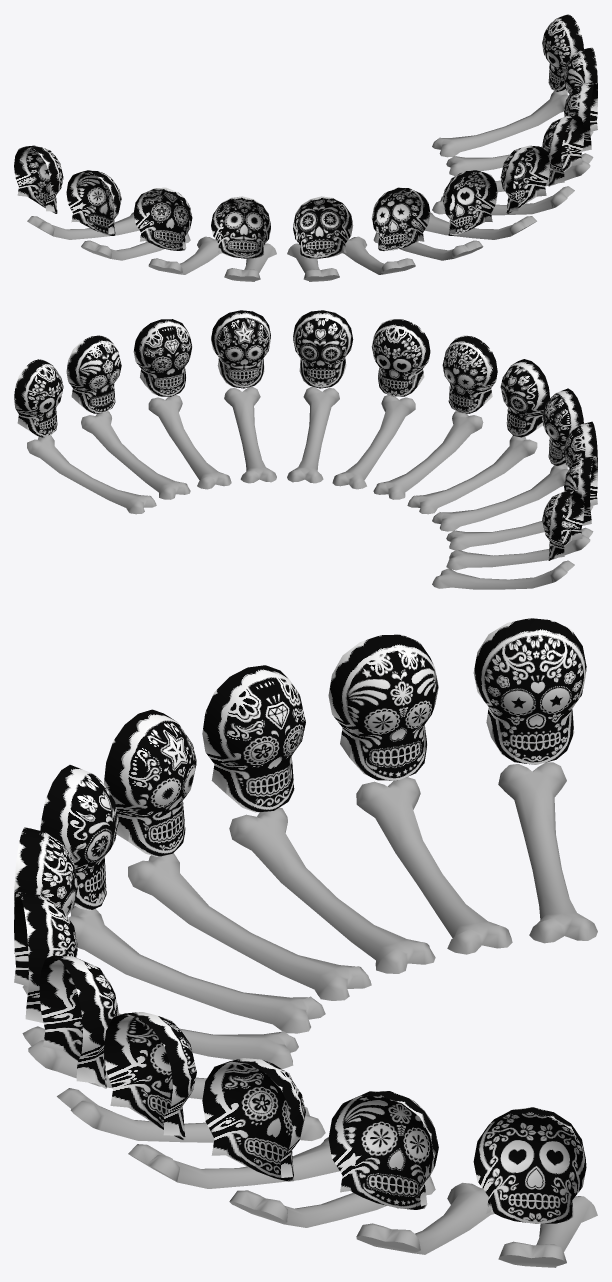
Rendered from xylophone.fbx.
The picture shows the model from 3 angles, top to bottom: view 1: azimuth 30°, elevation 25°; view 2: azimuth 150°, elevation 25°; view 3: azimuth 270°, elevation 25°; orthographic projection. The views are drawn at different scales.
Visible parts, largest first — view 1: head (×2), head5 (×2), head1 (×2), head4 (×2), head2 (×2), head3 (×2), bone4 (×2), bone5 (×2), bone (×2), bone1 (×2), bone3 (×2), bone2 (×2); view 2: head (×2), head4 (×2), head1 (×2), head5 (×2), head3 (×2), head2 (×2), bone4 (×2), bone (×2), bone1 (×2), bone5 (×2), bone3 (×2), bone2 (×2); view 3: head3 (×2), head2 (×2), head1 (×2), head5 (×2), head4 (×2), head (×2), bone1 (×2), bone3 (×2), bone2 (×2), bone (×2), bone5 (×2), bone4 (×2).
Part boxes in pixels (x1,y1,x2,y2): head (×2): [293, 145, 549, 258]; head5 (×2): [14, 145, 430, 250]; head1 (×2): [211, 115, 584, 258]; head4 (×2): [442, 14, 583, 235]; head2 (×2): [133, 82, 597, 250]; head3 (×2): [66, 47, 597, 235]; bone4 (×2): [373, 89, 568, 260]; bone5 (×2): [27, 212, 415, 274]; bone (×2): [287, 212, 536, 281]; bone1 (×2): [224, 186, 574, 281]; bone3 (×2): [81, 131, 593, 260]; bone2 (×2): [148, 153, 593, 274]; head (×2): [293, 310, 549, 437]; head4 (×2): [14, 319, 430, 437]; head1 (×2): [211, 310, 583, 466]; head5 (×2): [442, 335, 584, 560]; head3 (×2): [66, 335, 597, 525]; head2 (×2): [133, 319, 597, 488]; bone4 (×2): [27, 395, 415, 514]; bone (×2): [287, 387, 537, 514]; bone1 (×2): [224, 387, 568, 531]; bone5 (×2): [373, 411, 574, 589]; bone3 (×2): [81, 411, 593, 570]; bone2 (×2): [148, 395, 593, 550]; head3 (×2): [328, 634, 438, 1209]; head2 (×2): [202, 665, 305, 1181]; head1 (×2): [103, 709, 196, 1140]; head5 (×2): [14, 618, 586, 953]; head4 (×2): [14, 892, 586, 1223]; head (×2): [39, 765, 118, 1088]; bone1 (×2): [128, 853, 371, 1188]; bone3 (×2): [356, 777, 512, 1254]; bone2 (×2): [229, 807, 435, 1227]; bone (×2): [57, 906, 325, 1142]; bone5 (×2): [22, 762, 597, 1068]; bone4 (×2): [22, 1026, 597, 1267].
Bounding box in the file's own units: 33.54 × 6.49 × 16.51.
Materials: 2 (1 with a texture image).
